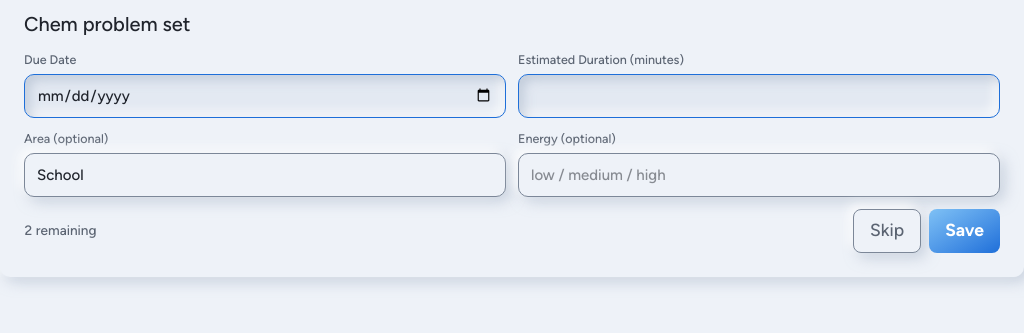
Test: SandboxCard › a failed Skip shows an inline alert on the card and re-enables the buttons
Click the button "Skip" at (887, 230), box 853,208 -> 921,252
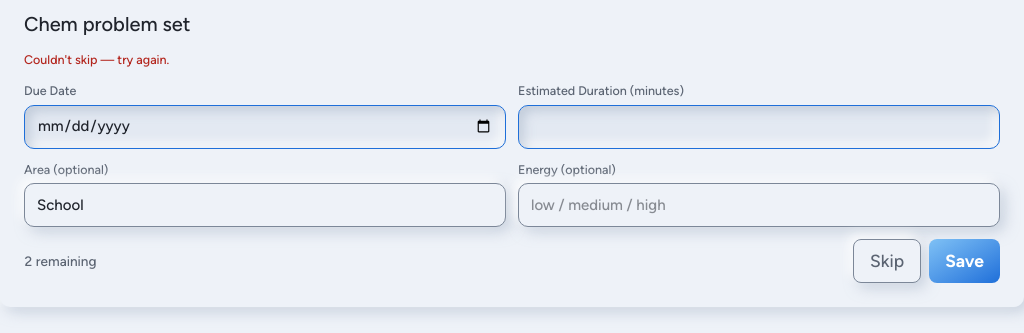
expect the button "Skip" is enabled: met, box 853,239 -> 921,283
expect the message reads "Couldn't skip — try again.": met, box 24,52 -> 169,67
